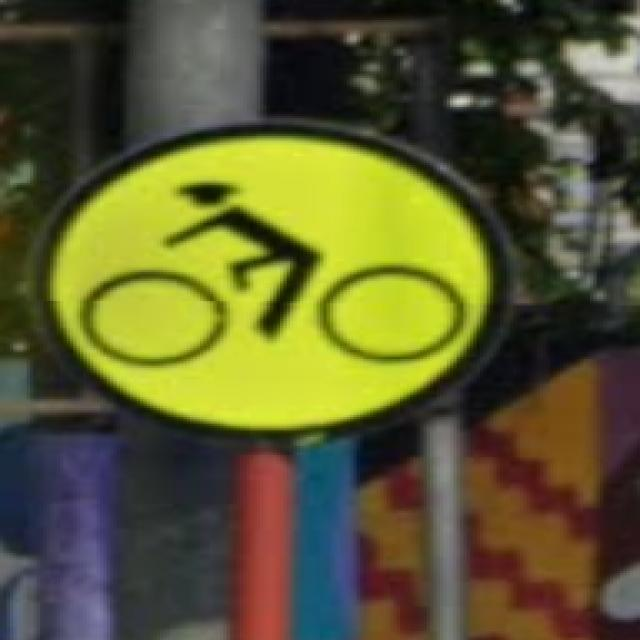bike lane: (33, 121, 507, 440)
